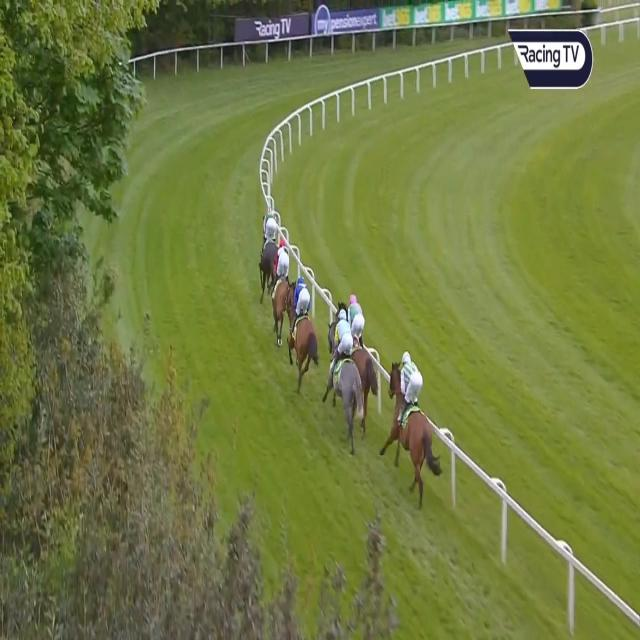horses-racing: (390, 344, 432, 483), (347, 292, 378, 398), (333, 308, 359, 428), (290, 273, 311, 378), (271, 241, 290, 335), (260, 209, 278, 283)
